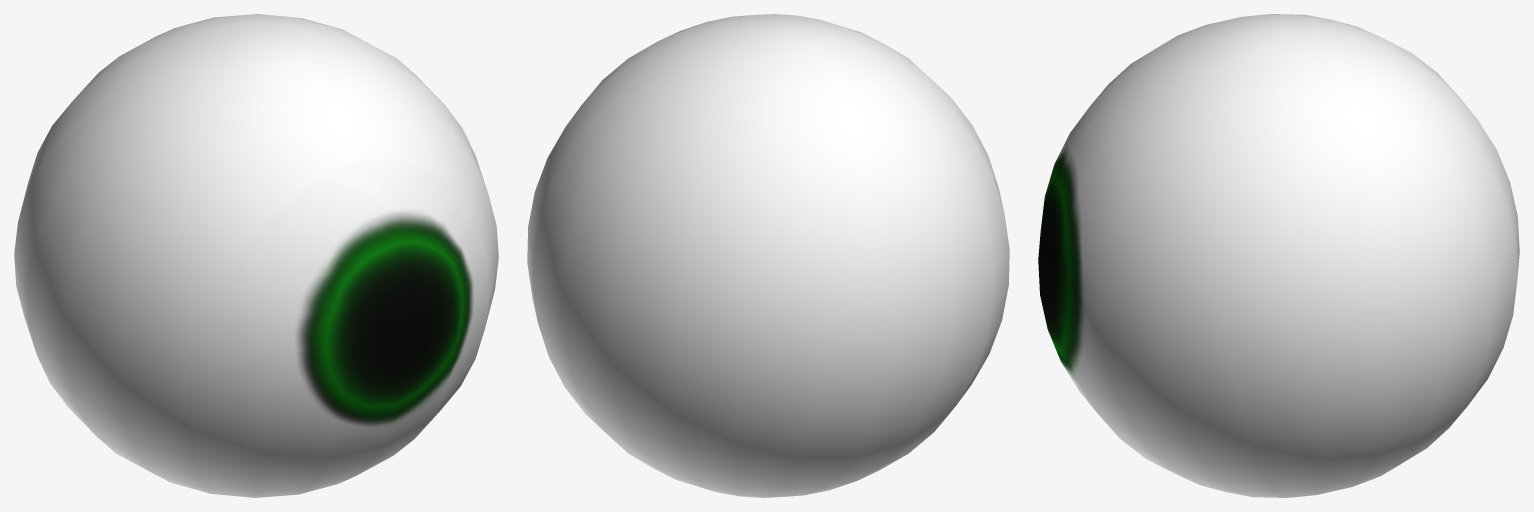
Rendered from NormEyes.fbx.
3 renders of one model, left to right at view 1: azimuth 30°, elevation 25°; view 2: azimuth 150°, elevation 25°; view 3: azimuth 270°, elevation 25°, orthographic.
Visible parts, largest first — view 1: pSphere1; view 2: pSphere1; view 3: pSphere1.
Part boxes in pixels (x1,y1,x2,y2): pSphere1: (14, 14, 498, 497); pSphere1: (527, 14, 1009, 497); pSphere1: (1038, 14, 1519, 497).
Size of the model in its own units: 0.8241 by 0.8316 by 0.8252.
Materials: 1 (1 with a texture image).
